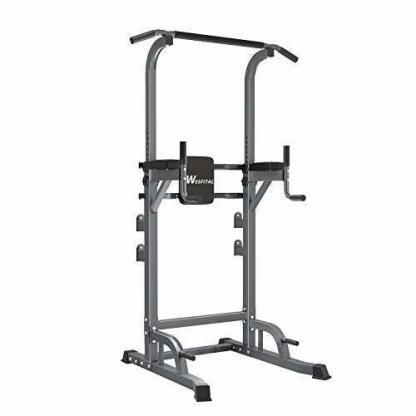chinning dipping: (129, 28, 334, 403)
